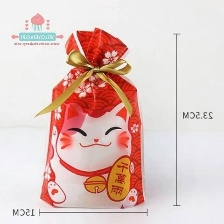snack: (32, 20, 153, 216)
